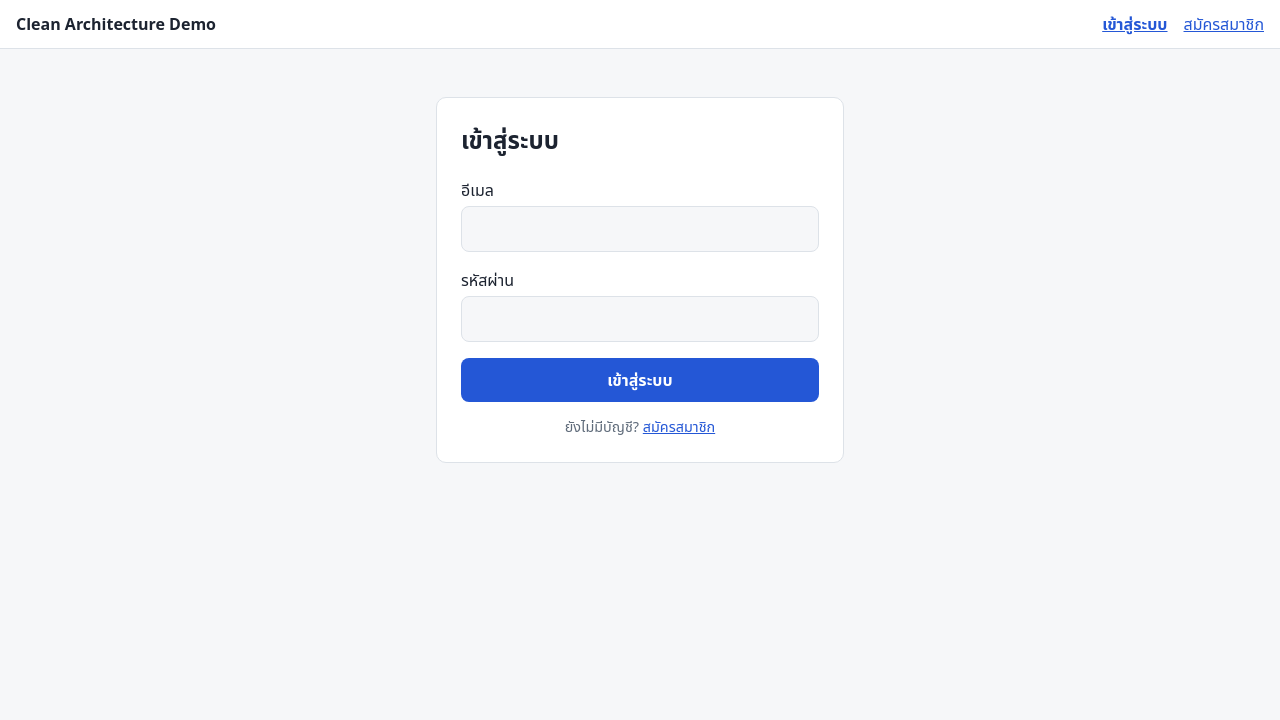
Scenario: LoginPage › tells a deactivated user why they cannot sign in
Step 1. Type "gone@example.com" into the field labelled "อีเมล" → (640, 229), box [461,206,819,252]
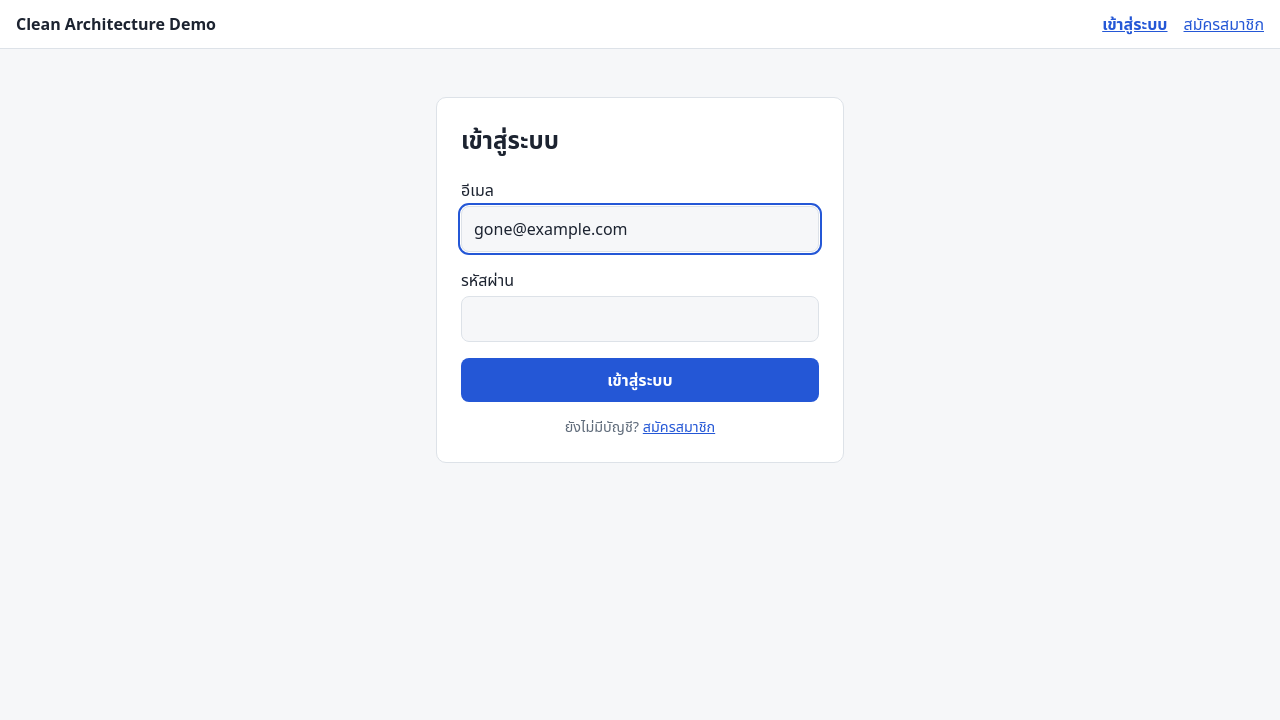
Step 2. Type "s3cret-pass" into the password field labelled "รหัสผ่าน" → (640, 319), box [461,296,819,342]
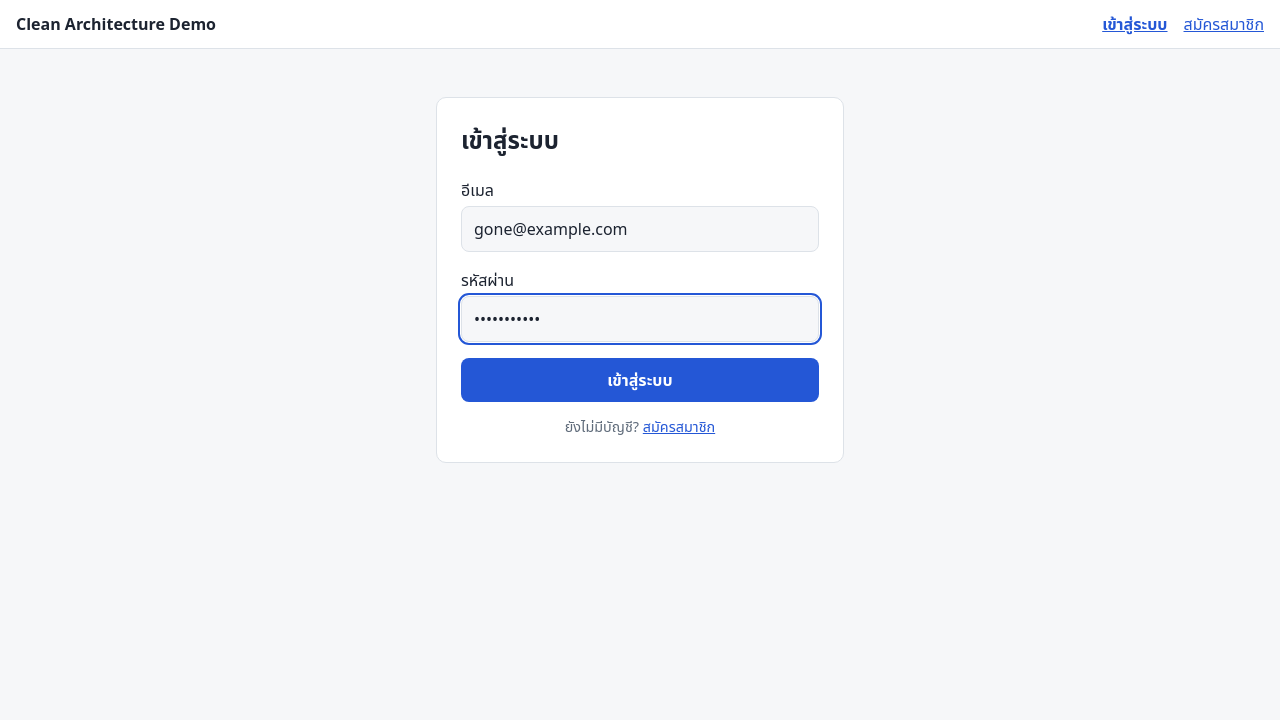
Step 3. Click the button "เข้าสู่ระบบ" → (640, 380), box [461,358,819,402]
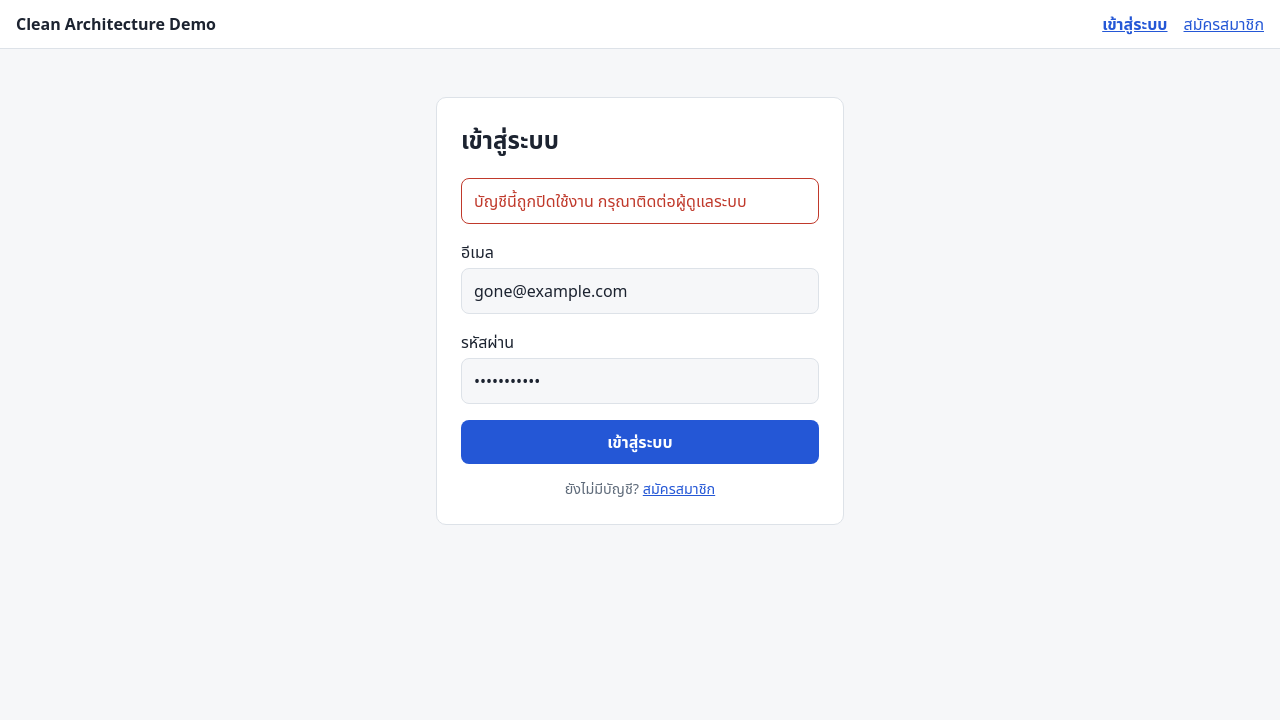
Check: the message shows "ถูกปิดใช้งาน", box [474,190,746,212]
